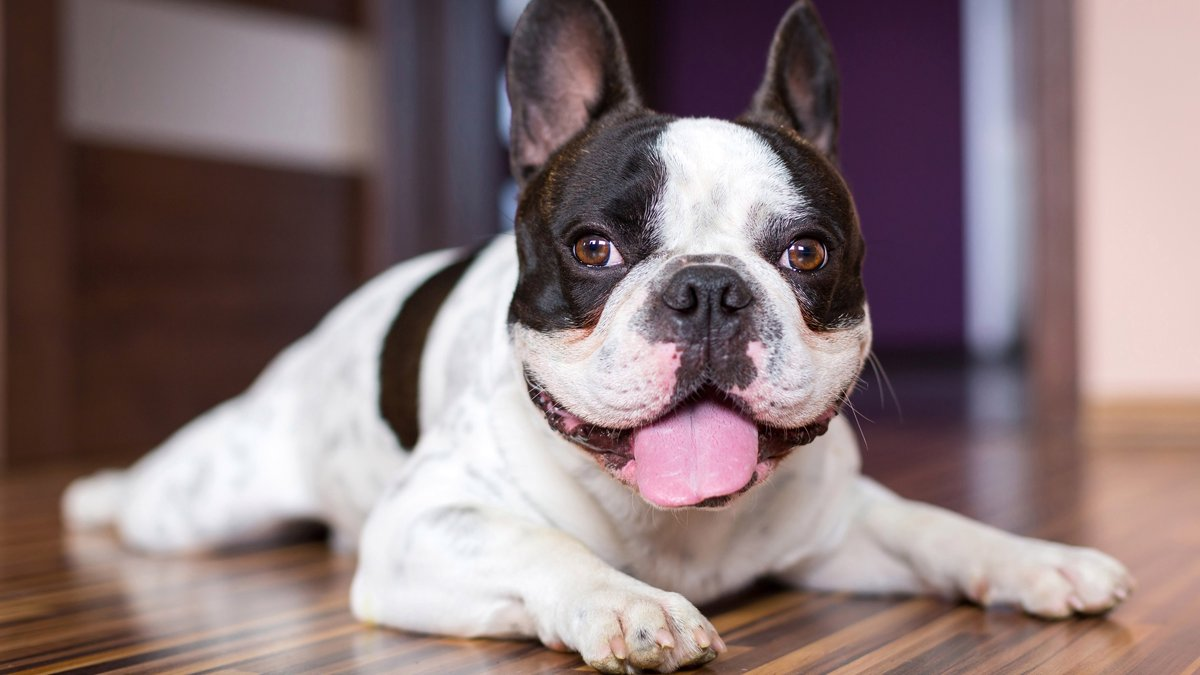dog: (53, 1, 1118, 652)
